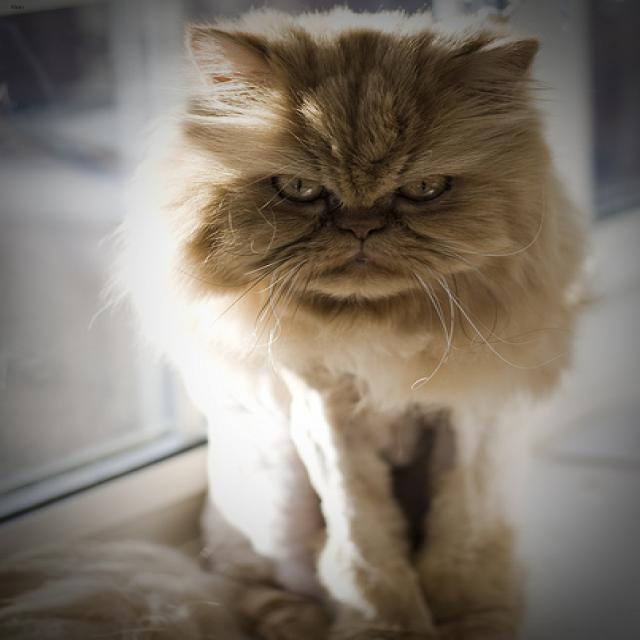Persian: (183, 27, 534, 294)
